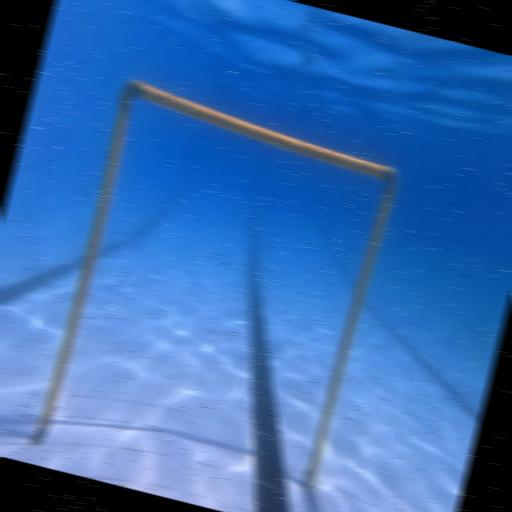gate: (28, 77, 426, 512)
